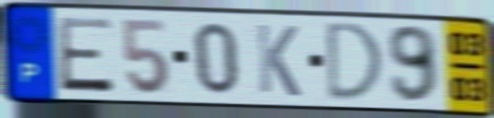0: (190, 20, 242, 97)
5: (119, 15, 173, 97)
9: (385, 23, 443, 106)
D: (325, 19, 386, 104)
E: (55, 15, 117, 95)
K: (253, 21, 303, 100)
